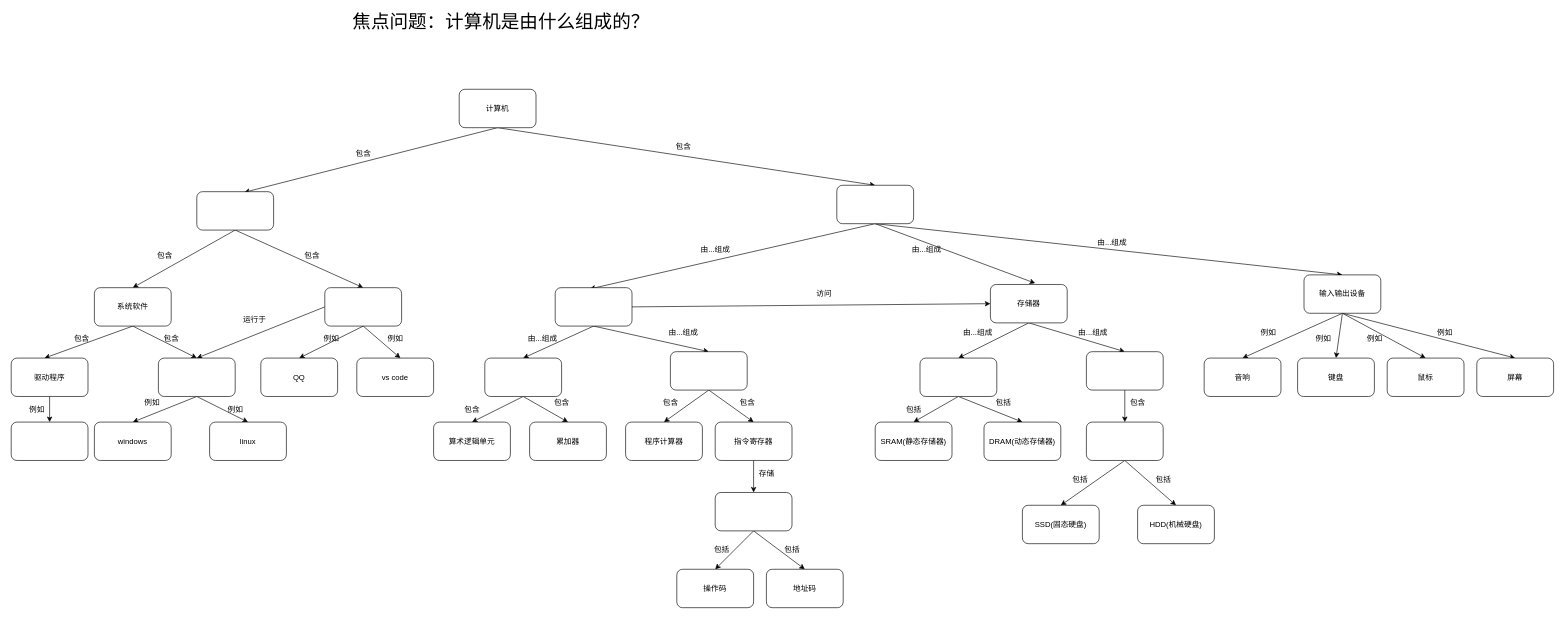
Image size: 1565x619. Some labels were removed from this diagram. Each missing label, with the centre of its shape:
"CPU" belongs at point (593, 306).
"RAM随机存储器" belongs at point (958, 376).
"ROM制度存储器" belongs at point (1124, 370).
"应用软件" belongs at point (363, 306).
"指令" belongs at point (753, 511).
"控制器" belongs at point (708, 370).
"操作系统" belongs at point (196, 376).
"硬件" belongs at point (875, 204).
"硬盘" belongs at point (1124, 440).
"软件" belongs at point (235, 210).
"运算器" belongs at point (523, 376).
"驱动显卡" belongs at point (49, 440).
